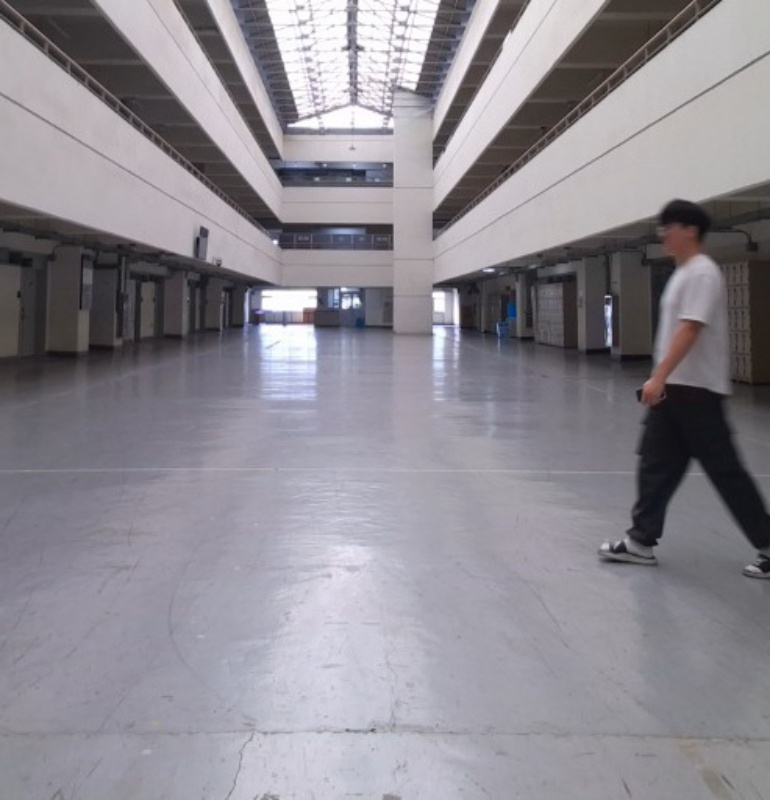person: (595, 198, 770, 581)
